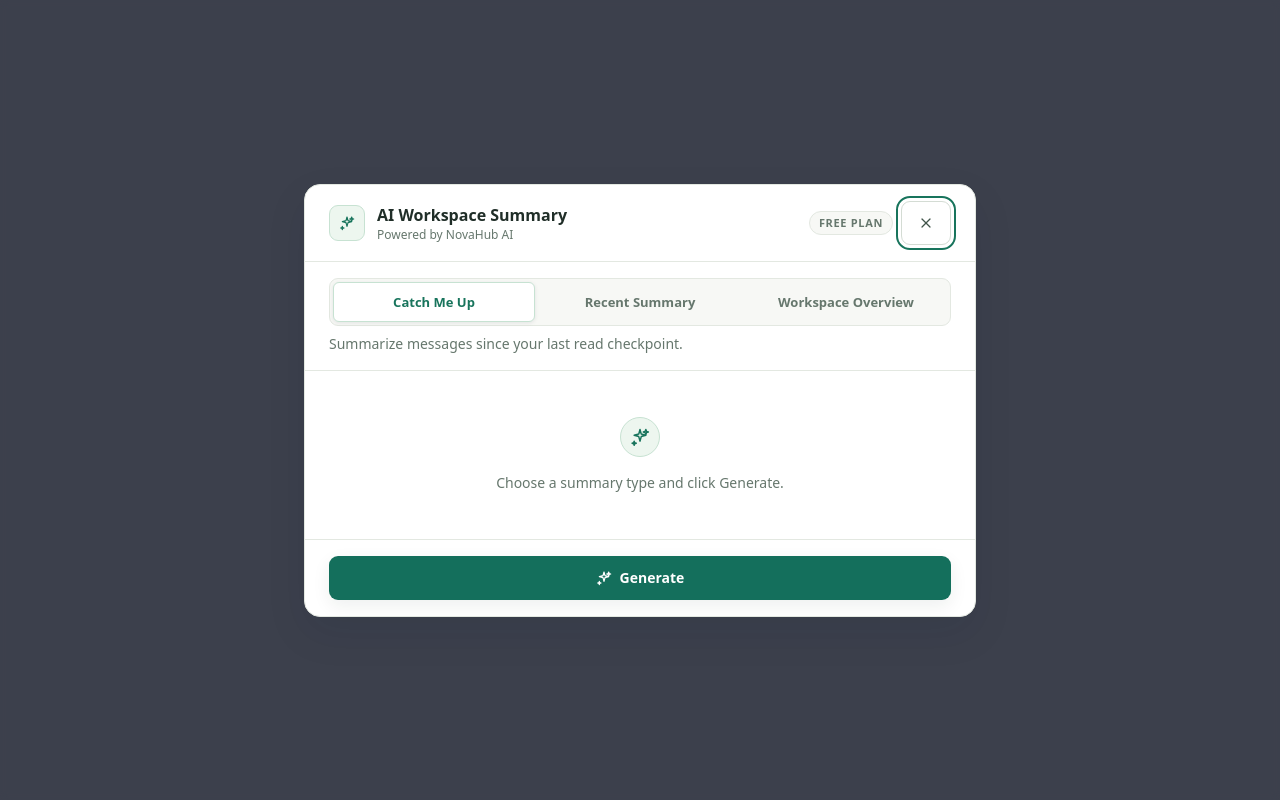
Test case: AiSummaryDialog — Mark as read (missed scope) › 18. successful missed summary exposes Mark as read button
Click the button "Generate". click: (640, 578)
box: [329,556,951,600]
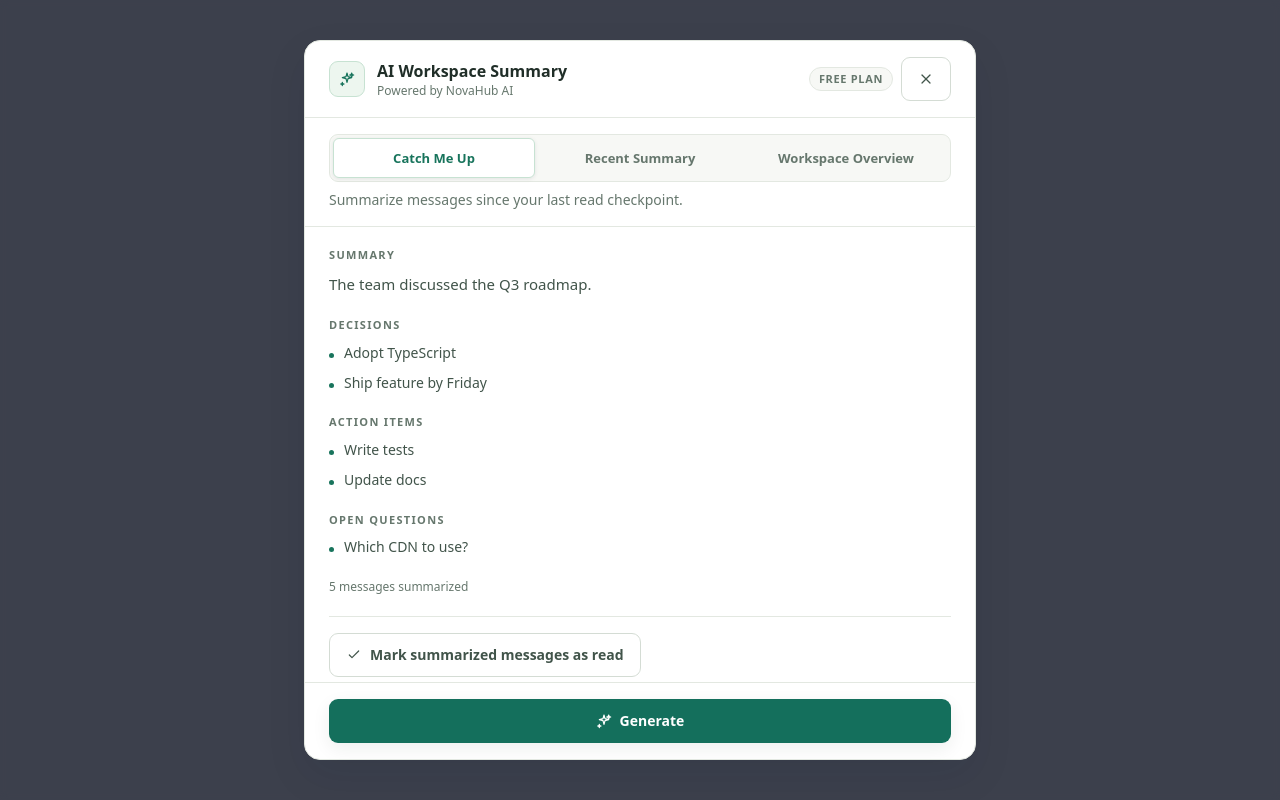
Now the button "Mark summarized messages as read" is shown, box [329,634,640,678]
